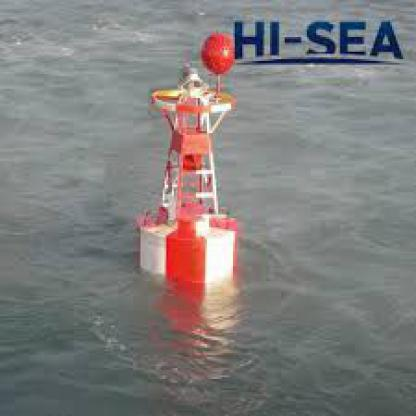buoy: (131, 31, 237, 285)
